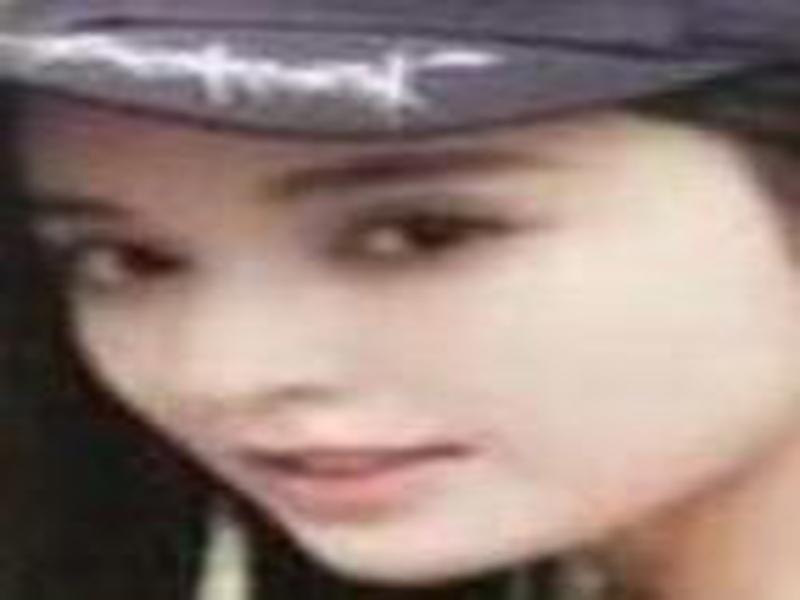without_mask: (14, 110, 778, 580)
